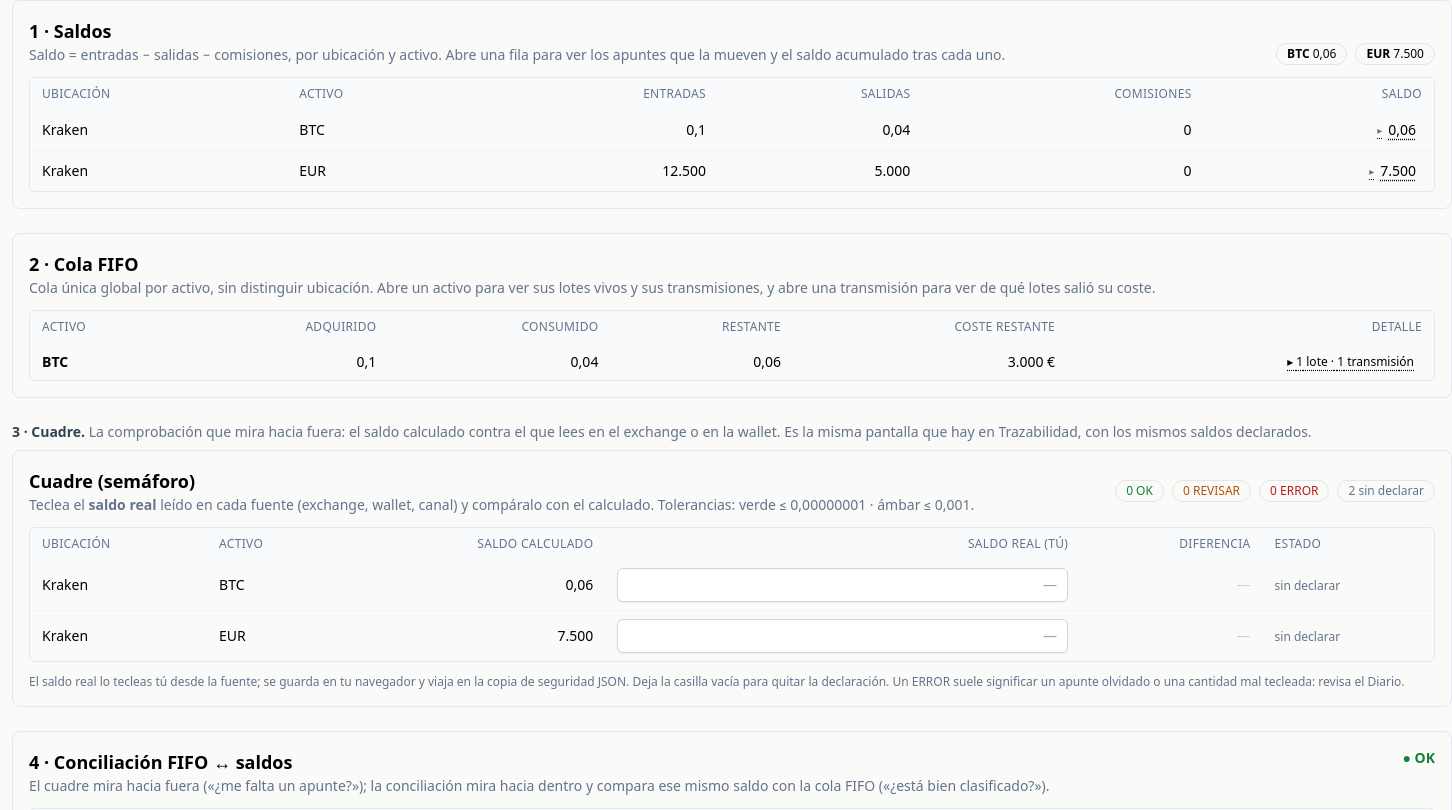
Scenario: Panel · pinchar una cifra y ver los apuntes que la componen › el saldo de una celda despliega sus movimientos y su acumulado
Click the button named "Ver los apuntes que mueven BTC en Kraken": (1397, 130) [1371, 118, 1422, 142]
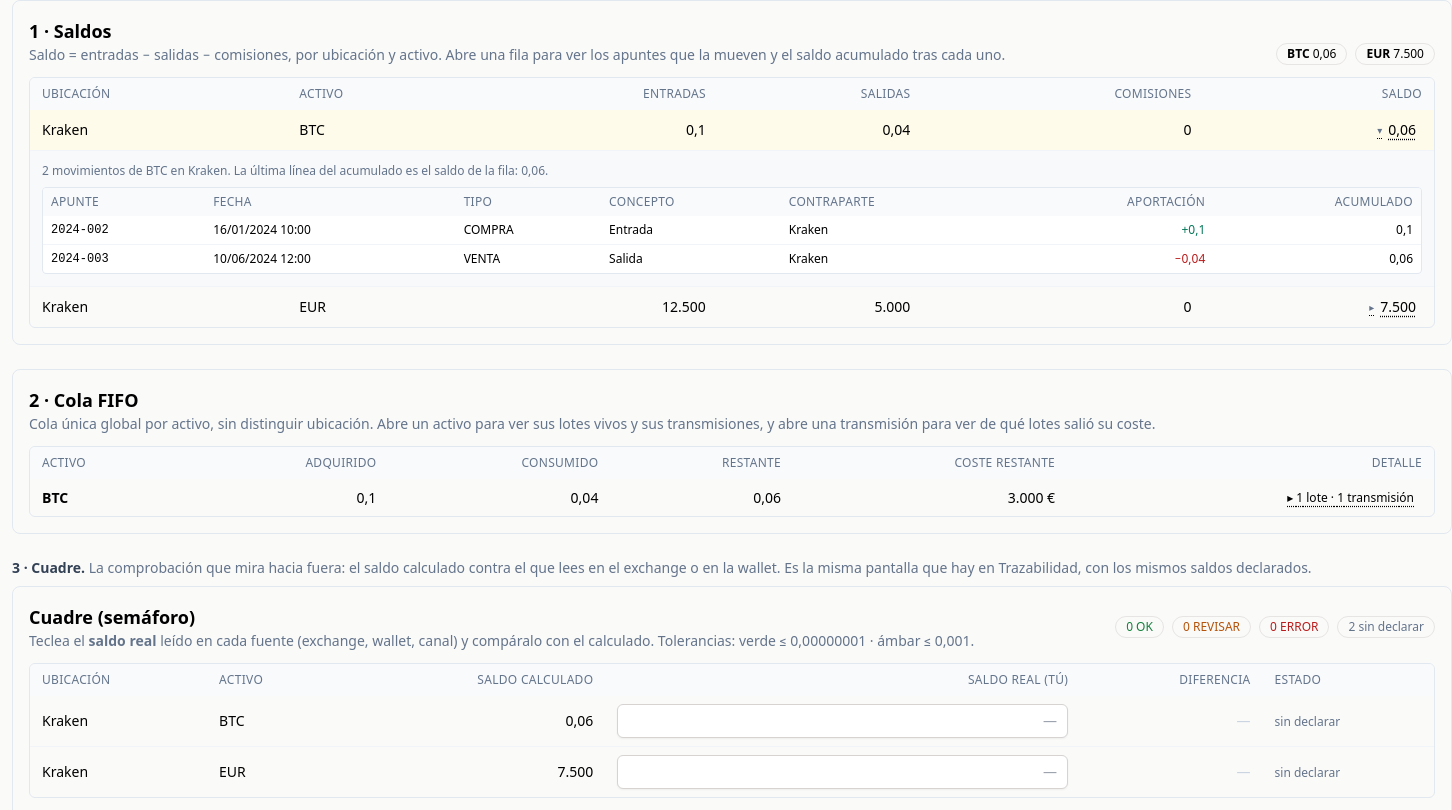
Expected: the button named "Ver los apuntes que mueven BTC en Kraken" is expanded, [1371, 118, 1422, 142]
Expected: the row "2024-002 16/01/2024 10:00 COMPRA Entrada Kraken +0,1 0,1" is shown, [43, 216, 1421, 244]
Expected: the row "2024-003 10/06/2024 12:00 VENTA Salida Kraken −0,04 0,06" is shown, [43, 244, 1421, 273]
